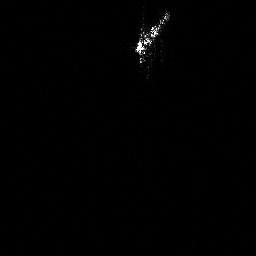ship: (130, 6, 175, 66)
